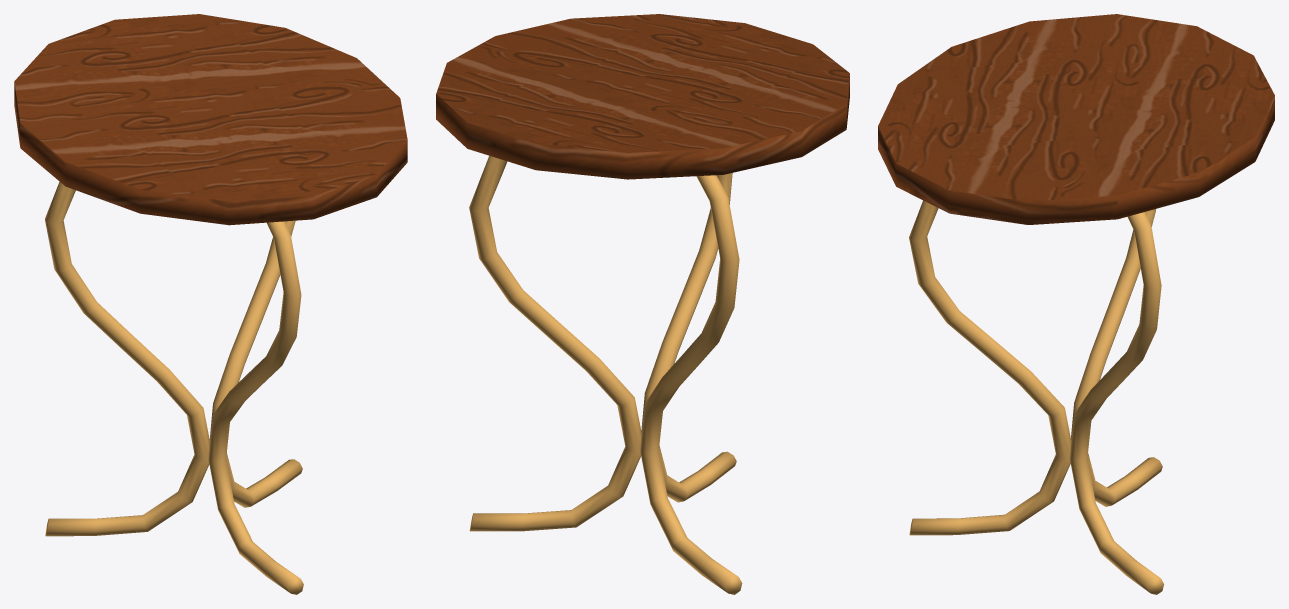
Rendered from Small_table_3.2.fbx.
The picture shows the model from 3 angles, left to right: view 1: azimuth 30°, elevation 25°; view 2: azimuth 150°, elevation 25°; view 3: azimuth 270°, elevation 25°; orthographic projection. The views are drawn at different scales.
Parts seen in each view (by area): view 1: Small_Table_3; view 2: Small_Table_3; view 3: Small_Table_3.
Boxes of the visible parts, x1=… form: Small_Table_3: x1=14, y1=14, x2=407, y2=594; Small_Table_3: x1=436, y1=14, x2=849, y2=594; Small_Table_3: x1=878, y1=14, x2=1274, y2=594.
Bounding box in the file's own units: 59.72 × 75.07 × 61.01.
